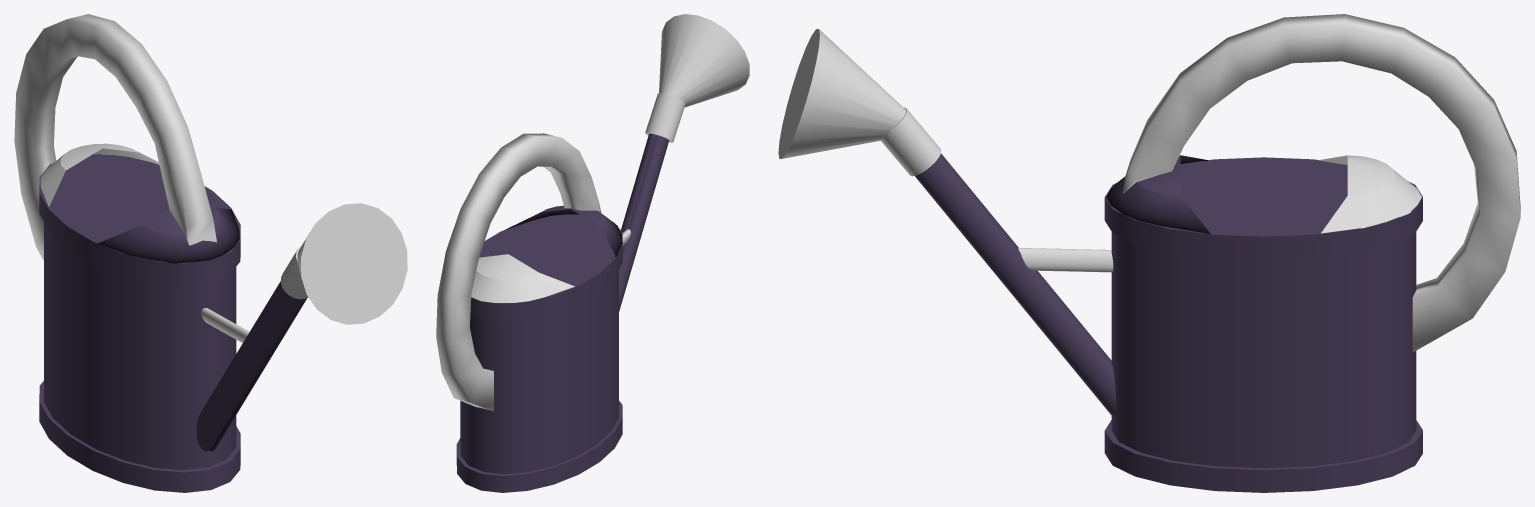
The model's file is arrosoir_alliou2.fbx.
3 views of the same model, side by side, from view 1: azimuth 30°, elevation 25°; view 2: azimuth 150°, elevation 25°; view 3: azimuth 270°, elevation 25° (orthographic). The views are drawn at different scales.
Visible parts, largest first — view 1: base_arro, poignee_arro, entonoir_arro, pasted__pCylinder2 (×2), up_1_arro, pasted__pCylinder4, jointure_arro, tube_arro; view 2: base_arro, poignee_arro, entonoir_arro, pasted__pCylinder4, pasted__pCylinder2, jointure_arro, up_1_arro, tube_arro; view 3: base_arro, poignee_arro, tube_arro, entonoir_arro, pasted__pCylinder4, up_1_arro, jointure_arro, pasted__pCylinder2.
Part boxes in pixels (x1,y1,x2,y2): base_arro: [39, 154, 240, 492]; poignee_arro: [14, 14, 216, 260]; entonoir_arro: [297, 203, 407, 324]; pasted__pCylinder2 (×2): [196, 281, 302, 451]; up_1_arro: [98, 207, 239, 263]; pasted__pCylinder4: [40, 143, 159, 206]; jointure_arro: [280, 245, 308, 299]; tube_arro: [210, 298, 307, 451]; base_arro: [456, 214, 622, 492]; poignee_arro: [436, 133, 601, 411]; entonoir_arro: [659, 14, 749, 107]; pasted__pCylinder4: [471, 254, 574, 302]; pasted__pCylinder2: [619, 135, 668, 311]; jointure_arro: [645, 93, 685, 142]; up_1_arro: [505, 205, 622, 256]; tube_arro: [621, 133, 655, 247]; base_arro: [1104, 157, 1422, 492]; poignee_arro: [1122, 14, 1520, 352]; tube_arro: [915, 155, 1115, 417]; entonoir_arro: [778, 29, 905, 158]; pasted__pCylinder4: [1318, 155, 1421, 233]; up_1_arro: [1106, 155, 1210, 233]; jointure_arro: [881, 107, 941, 176]; pasted__pCylinder2: [1018, 248, 1113, 272].
Size of the model in its own units: 1.33 by 3.38 by 5.25.
